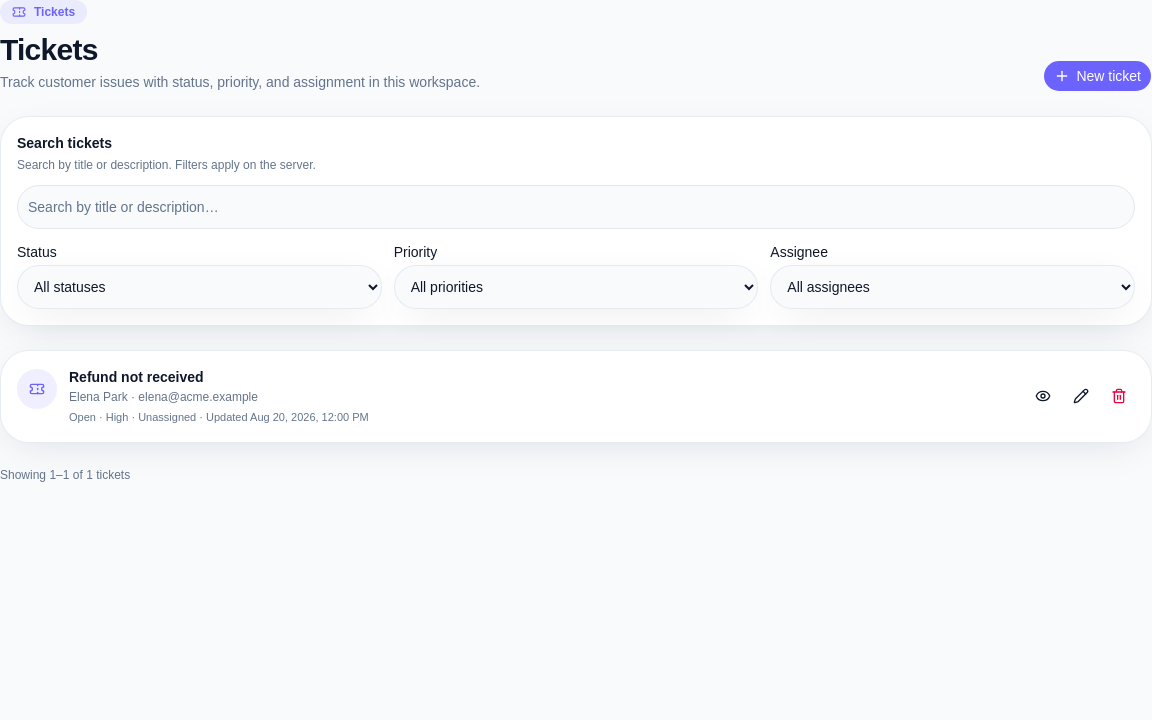
Test: TicketsBoard › confirms deletion and removes the ticket from the list
Expected: the text "Refund not received" is shown, [69,369,204,385]
What coordinates should you click on to do the following:
click the button named "Delete Refund not received"
I would click on:
 (1119, 396)
Its box is [1103,380,1135,412].
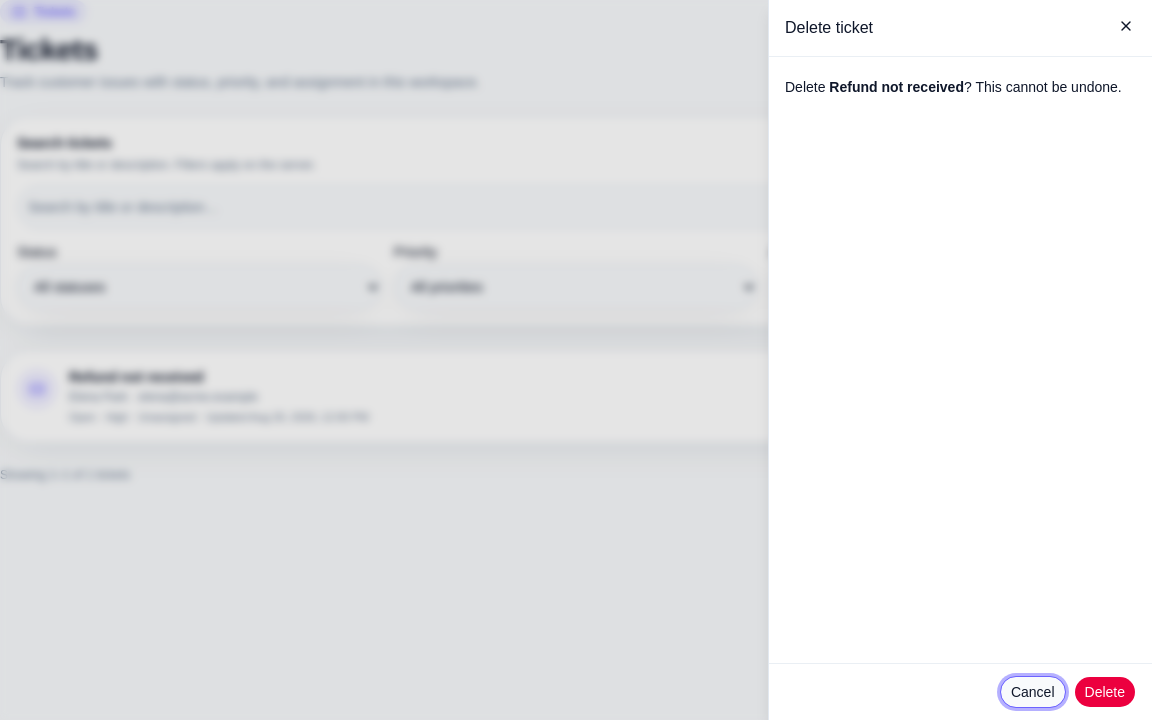
Result: the text "Delete Refund not received? This cannot be undone." is shown at [785,77,1136,97]
Result: the heading "Delete ticket" is shown at [785,19,873,36]
What coordinates should you click on to do the following:
click the button "Delete"
I would click on:
 (1105, 692)
Its box is [1074,676,1136,708].
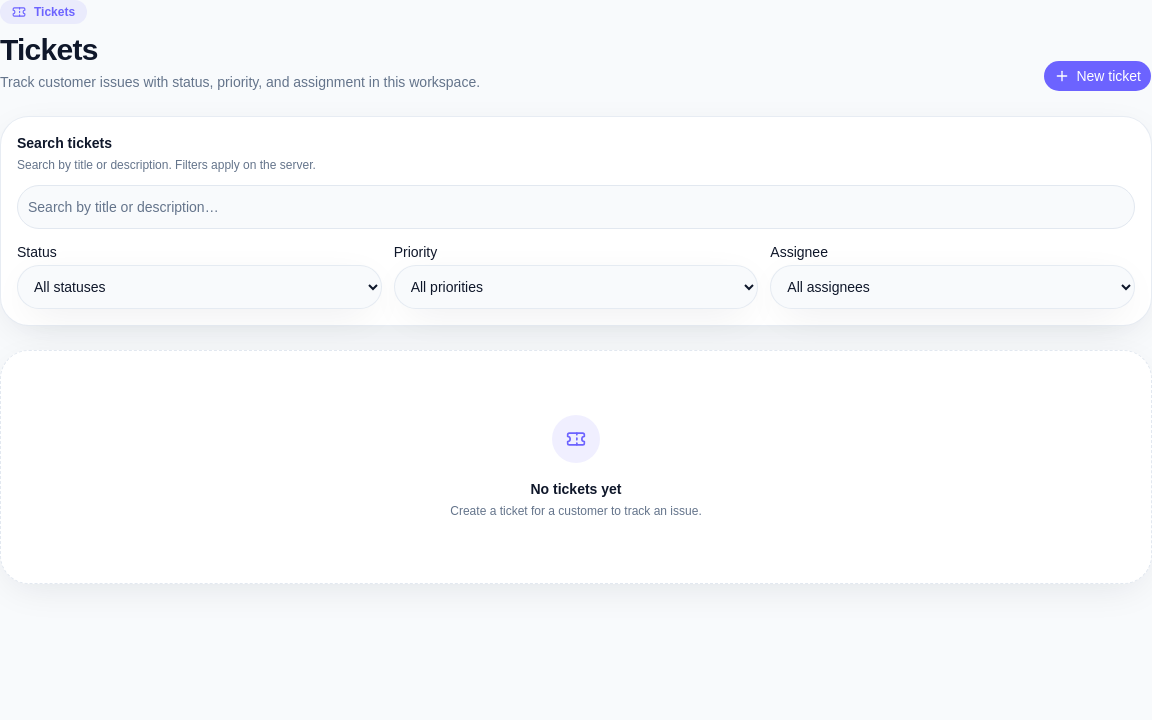
Result: the text "No tickets yet" is shown at [530,481,622,497]
